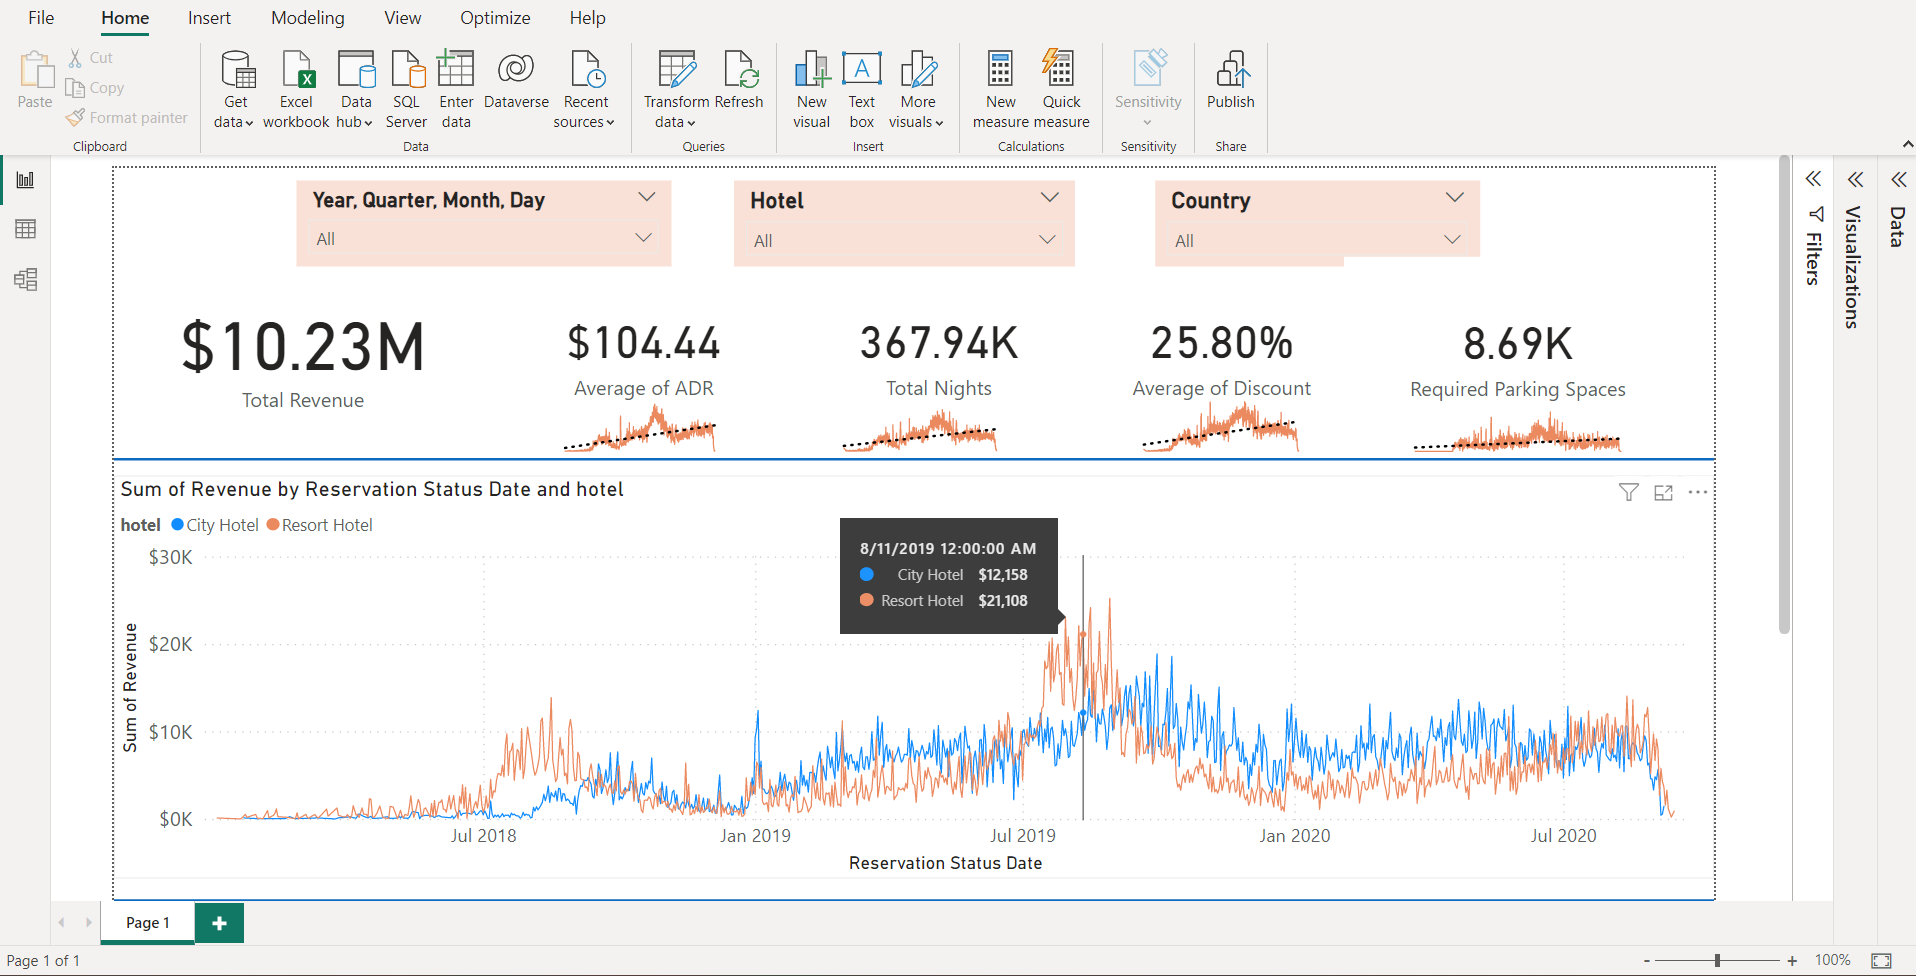

Layout of this report page (visuals, bound fields, positions):
{"tool":"powerbi","page":{"name":"Page 1","canvas":[1280,920],"ordinal":0},"visuals":[{"type":"shape","box":[0,92.9,1280,280],"z":0},{"type":"shape","box":[0,446,1280,280],"z":1000},{"type":"card","fields":{"Values":["Avg(Query1.adr)"]},"box":[278.6,70,290,152.9],"z":2000},{"type":"card","fields":{"Values":["Query1.Total Nights"]},"box":[530,70,260,152.9],"z":3000},{"type":"card","fields":{"Values":["Sum(Query1.Revenue (New Column))"]},"box":[0,70,302.9,152.9],"z":4000},{"type":"card","fields":{"Values":["Avg(Query1.Discount)"]},"box":[747.1,70,278.6,152.9],"z":5000},{"type":"slicer","fields":{"Values":["Query1.country"]},"box":[832.9,10,260,68.6],"z":6000},{"type":"lineChart","fields":{"Category":["Query1.reservation_status_date"],"Y":["Sum(Query1.Revenue (New Column))"],"Series":["Query1.hotel"]},"box":[0,245.7,1280,322.9],"z":7000},{"type":"slicer","fields":{"Values":["Query1.hotel"]},"box":[495.7,10,272.9,68.6],"z":8000},{"type":"lineChart","fields":{"Category":["Query1.reservation_status_date"],"Y":["Sum(Query1.adr)"]},"box":[345.7,170,150,62.9],"z":9000},{"type":"lineChart","fields":{"Category":["Query1.reservation_status_date"],"Y":["Query1.Total Nights"]},"box":[568.6,170,152.9,62.9],"z":10000},{"type":"lineChart","fields":{"Category":["Query1.reservation_status_date"],"Y":["Sum(Query1.Discount)"]},"box":[808.6,170,154.3,62.9],"z":11000},{"type":"card","fields":{"Values":["Sum(Query1.required_car_parking_spaces)"]},"box":[984.3,71.4,278.6,152.9],"z":12000},{"type":"lineChart","fields":{"Category":["Query1.reservation_status_date"],"Y":["Sum(Query1.required_car_parking_spaces)"]},"box":[1025.7,170,195.7,62.9],"z":13000},{"type":"donutChart","fields":{"Category":["Query1.hotel"],"Y":["Sum(Query1.Revenue (New Column))"]},"box":[660,601.4,481.4,318.6],"z":14000},{"type":"pivotTable","fields":{"Rows":["Query1.reservation_status_date.Variation.Date Hierarchy.Year","Query1.hotel"],"Values":["Sum(Query1.Revenue (New Column))","Sum(Query1.required_car_parking_spaces)"]},"box":[145.7,601.4,514.3,318.6],"z":15000},{"type":"slicer","fields":{"Values":["Query1.reservation_status_date.Variation.Date Hierarchy.Year","Query1.reservation_status_date.Variation.Date Hierarchy.Quarter","Query1.reservation_status_date.Variation.Date Hierarchy.Month","Query1.reservation_status_date.Variation.Date Hierarchy.Day"]},"box":[145.7,10,300,68.6],"z":16000}]}

Visuals, with their boxes on the page's 1280x920 design canvas (x1, y1, x2, y2). These are canvas units, not pixel positions in the 1916x976 screenshot, which may show the page scaled, cropped or inside an application window:
shape: x1=0 y1=93 x2=1280 y2=373
shape: x1=0 y1=446 x2=1280 y2=726
card - Avg(Query1.adr): x1=279 y1=70 x2=569 y2=223
card - Query1.Total Nights: x1=530 y1=70 x2=790 y2=223
card - Sum(Query1.Revenue (New Column)): x1=0 y1=70 x2=303 y2=223
card - Avg(Query1.Discount): x1=747 y1=70 x2=1026 y2=223
slicer - Query1.country: x1=833 y1=10 x2=1093 y2=79
lineChart - Query1.reservation_status_date x Sum(Query1.Revenue (New Column)): x1=0 y1=246 x2=1280 y2=569
slicer - Query1.hotel: x1=496 y1=10 x2=769 y2=79
lineChart - Query1.reservation_status_date x Sum(Query1.adr): x1=346 y1=170 x2=496 y2=233
lineChart - Query1.reservation_status_date x Query1.Total Nights: x1=569 y1=170 x2=722 y2=233
lineChart - Query1.reservation_status_date x Sum(Query1.Discount): x1=809 y1=170 x2=963 y2=233
card - Sum(Query1.required_car_parking_spaces): x1=984 y1=71 x2=1263 y2=224
lineChart - Query1.reservation_status_date x Sum(Query1.required_car_parking_spaces): x1=1026 y1=170 x2=1221 y2=233
donutChart - Query1.hotel x Sum(Query1.Revenue (New Column)): x1=660 y1=601 x2=1141 y2=920
pivotTable - Query1.reservation_status_date.Variation.Date Hierarchy.Year x Query1.hotel: x1=146 y1=601 x2=660 y2=920
slicer - Query1.reservation_status_date.Variation.Date Hierarchy.Year x Query1.reservation_status_date.Variation.Date Hierarchy.Quarter: x1=146 y1=10 x2=446 y2=79
